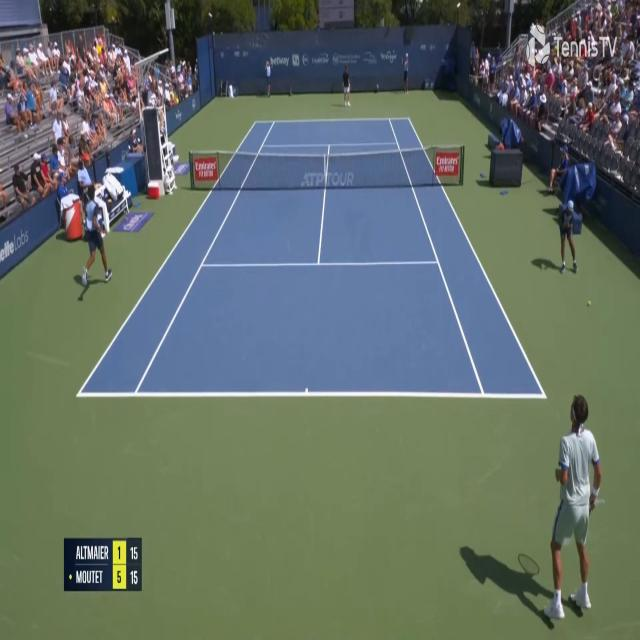tennis-player: (535, 392, 607, 618), (340, 63, 352, 108)
